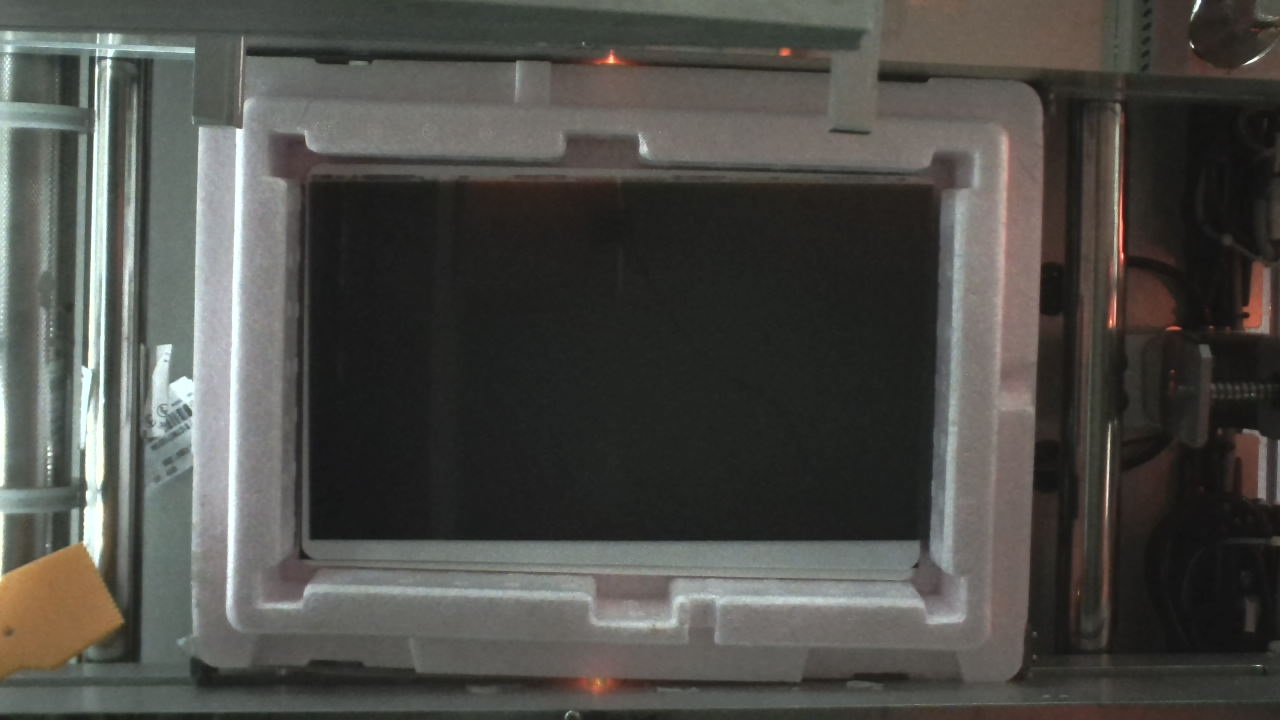OK: (184, 56, 1049, 691)
